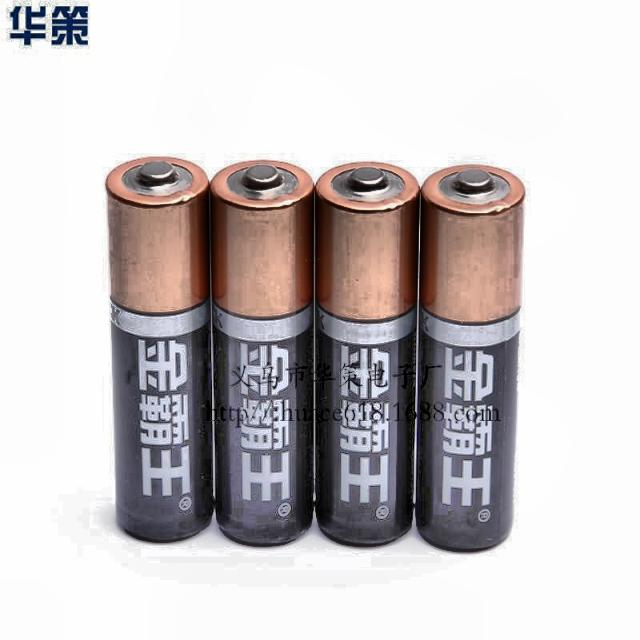Non-Valuable Waste - Batteries: (416, 164, 525, 551), (106, 156, 212, 542), (210, 160, 314, 544), (315, 162, 419, 546)
